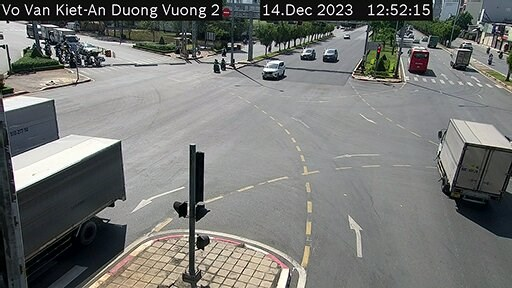car: (259, 57, 285, 84), (404, 45, 426, 72), (322, 43, 339, 63), (297, 45, 312, 65)
truck: (16, 125, 131, 264), (437, 113, 508, 215), (9, 90, 61, 146), (454, 45, 478, 69)
